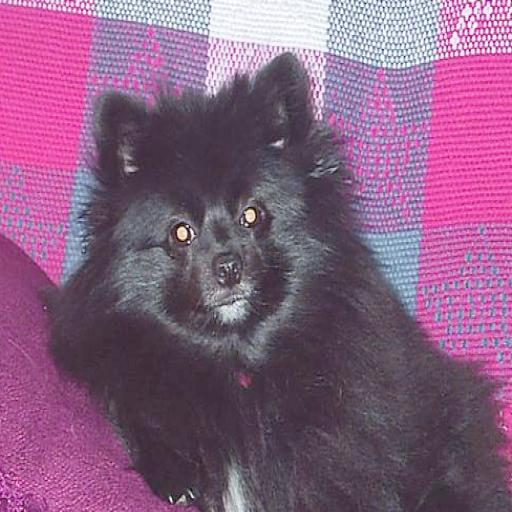dog_face: (94, 70, 320, 359)
